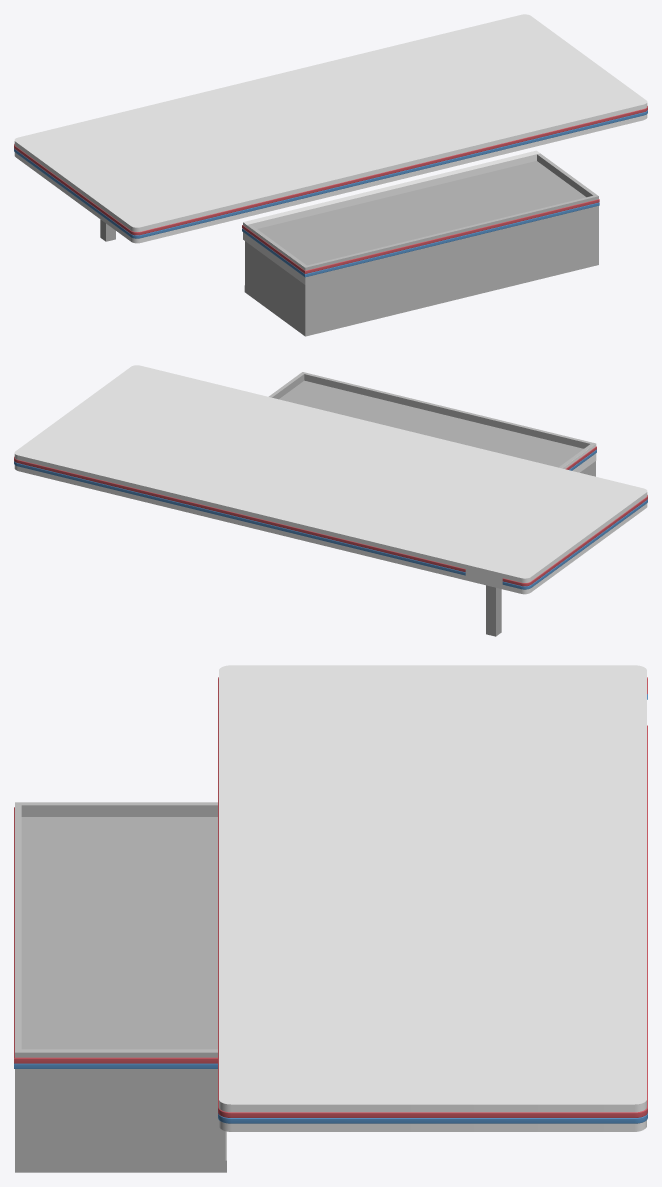
The model's file is station.glb.
The picture shows the model from 3 angles, top to bottom: view 1: azimuth 30°, elevation 25°; view 2: azimuth 150°, elevation 25°; view 3: azimuth 270°, elevation 25°; orthographic projection. The views are drawn at different scales.
Parts seen in each view (by area): view 1: 196_obj(4002336), 64_obj(4002336), 65_obj(4002336), 62_obj(4002336), 42_obj(4002336), 198_obj(4002336), 197_obj(4002336), 77_obj(4002336), 78_obj(4002336), 63_obj(4002336), 76_obj(4002336), 199_obj(4002336); view 2: 196_obj(4002336), 65_obj(4002336), 64_obj(4002336), 198_obj(4002336), 197_obj(4002336), 11_obj(4002336), 199_obj(4002336); view 3: 196_obj(4002336), 65_obj(4002336), 63_obj(4002336), 198_obj(4002336), 62_obj(4002336), 197_obj(4002336), 64_obj(4002336), 77_obj(4002336), 78_obj(4002336).
Boxes of the visible parts, x1=… form: 196_obj(4002336): x1=14, y1=14, x2=647, y2=242; 64_obj(4002336): x1=307, y1=195, x2=595, y2=335; 65_obj(4002336): x1=257, y1=161, x2=585, y2=265; 62_obj(4002336): x1=247, y1=224, x2=308, y2=336; 42_obj(4002336): x1=243, y1=150, x2=539, y2=228; 198_obj(4002336): x1=14, y1=106, x2=647, y2=235; 197_obj(4002336): x1=14, y1=110, x2=647, y2=238; 77_obj(4002336): x1=242, y1=199, x2=599, y2=273; 78_obj(4002336): x1=242, y1=202, x2=599, y2=277; 63_obj(4002336): x1=537, y1=153, x2=598, y2=265; 76_obj(4002336): x1=243, y1=222, x2=305, y2=284; 199_obj(4002336): x1=20, y1=119, x2=644, y2=243; 196_obj(4002336): x1=14, y1=365, x2=647, y2=593; 65_obj(4002336): x1=279, y1=380, x2=583, y2=467; 64_obj(4002336): x1=304, y1=372, x2=591, y2=448; 198_obj(4002336): x1=14, y1=456, x2=647, y2=586; 197_obj(4002336): x1=14, y1=461, x2=647, y2=589; 11_obj(4002336): x1=486, y1=585, x2=501, y2=636; 199_obj(4002336): x1=17, y1=470, x2=643, y2=594; 196_obj(4002336): x1=219, y1=665, x2=646, y2=1131; 65_obj(4002336): x1=21, y1=817, x2=217, y2=1049; 63_obj(4002336): x1=15, y1=1049, x2=218, y2=1172; 198_obj(4002336): x1=218, y1=677, x2=647, y2=1117; 62_obj(4002336): x1=15, y1=802, x2=217, y2=816; 197_obj(4002336): x1=218, y1=694, x2=647, y2=1123; 64_obj(4002336): x1=15, y1=805, x2=21, y2=1049; 77_obj(4002336): x1=14, y1=807, x2=217, y2=1063; 78_obj(4002336): x1=14, y1=1063, x2=217, y2=1068.
Bounding box in the file's own units: 42.08 × 7.23 × 25.62.
